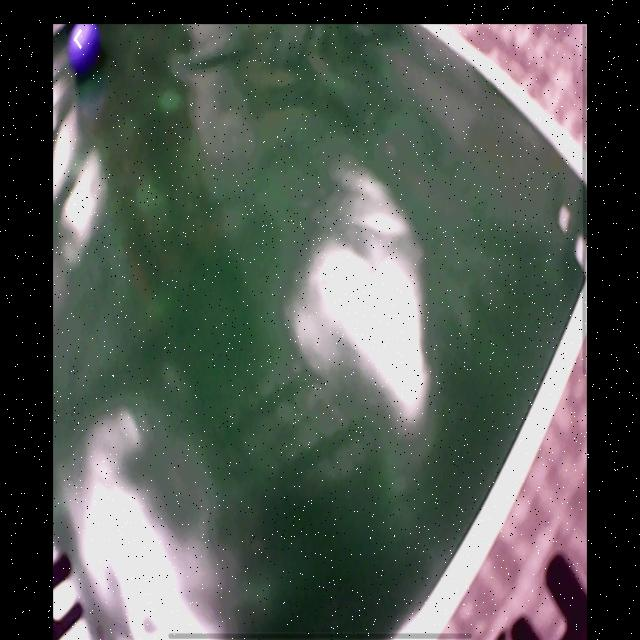ball: (68, 27, 101, 68)
